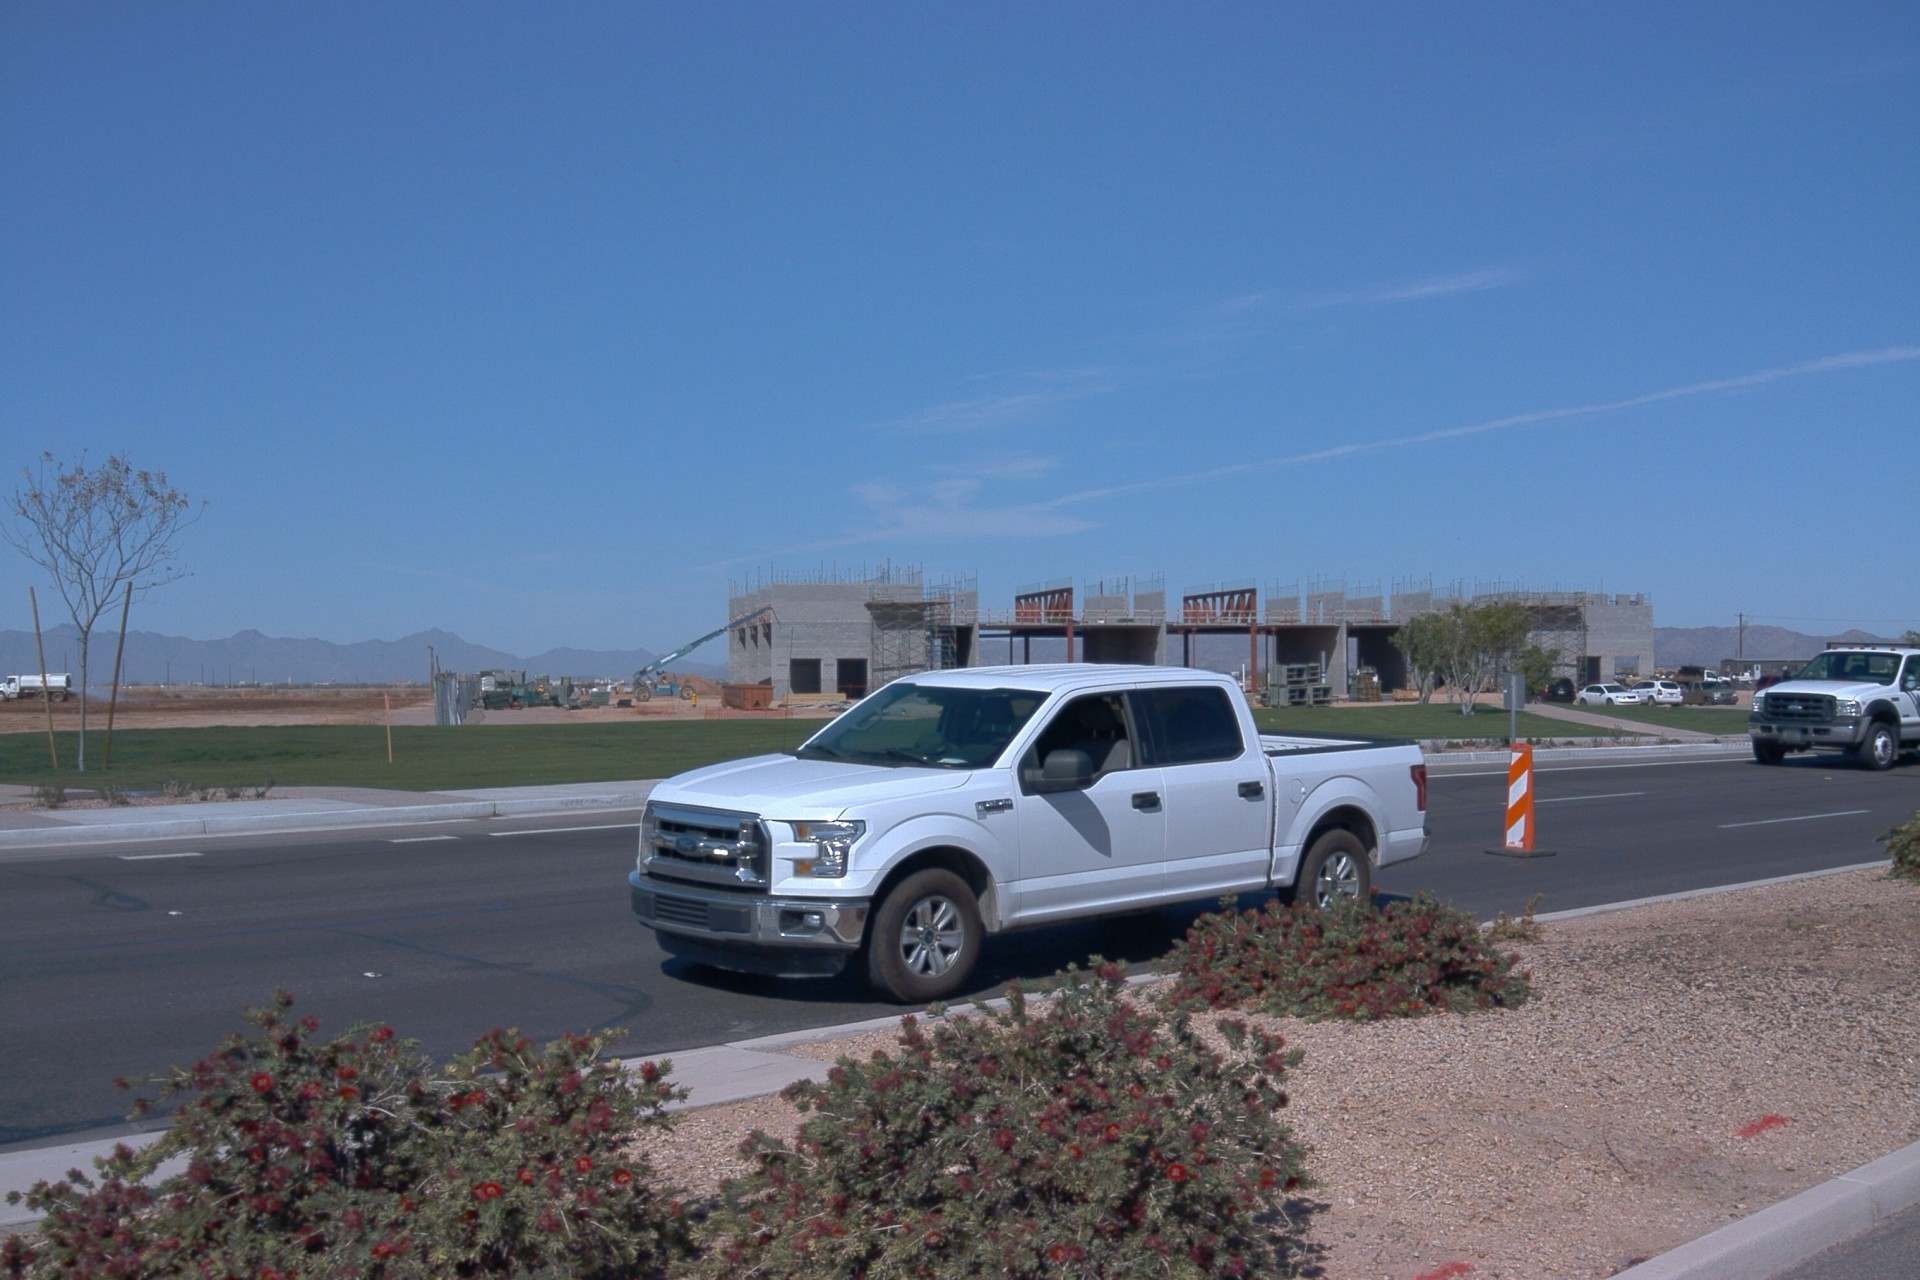TYPE_PEDESTRIAN: (538, 685, 546, 693)
TYPE_VEHICLE: (628, 657, 1441, 1007), (1746, 642, 1920, 771), (628, 603, 779, 705), (4, 671, 81, 713), (1624, 682, 1684, 713), (1682, 678, 1739, 710), (1536, 675, 1582, 709), (1574, 688, 1642, 709), (1673, 669, 1730, 690), (1750, 683, 1793, 699)
